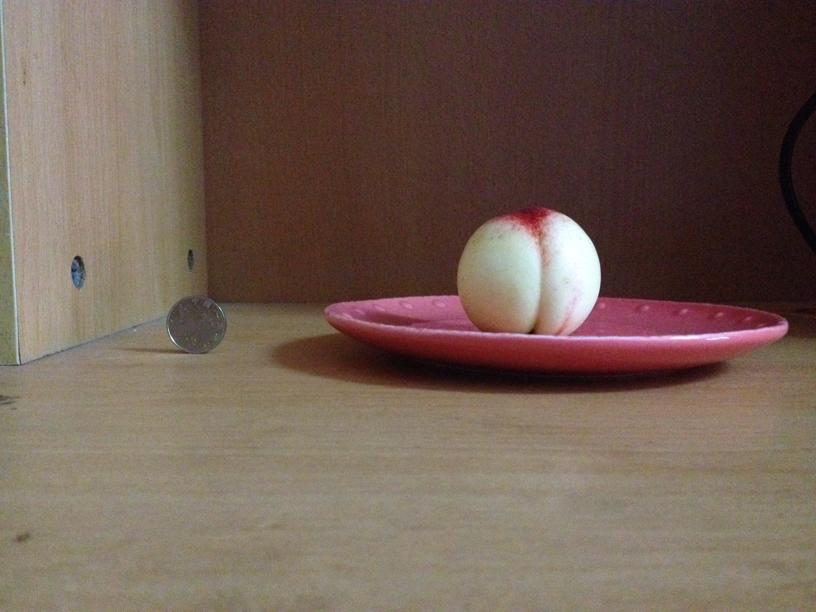coin: (166, 295, 225, 352)
peach: (455, 207, 603, 334)
